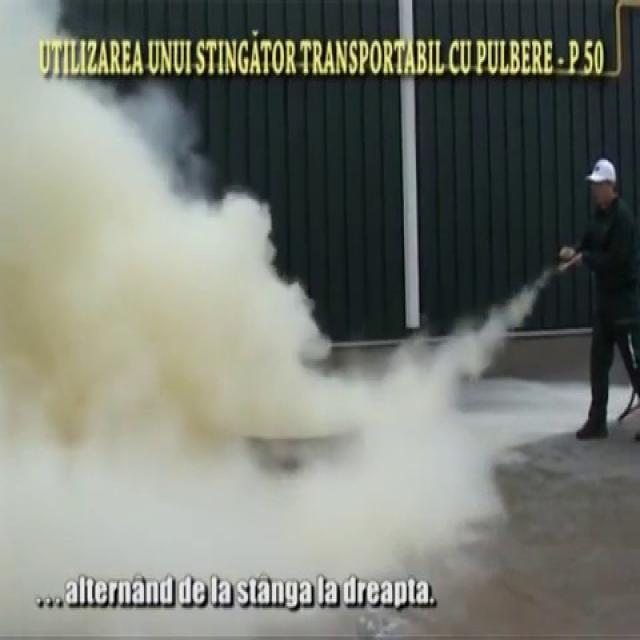Smoke: (0, 0, 509, 640)
